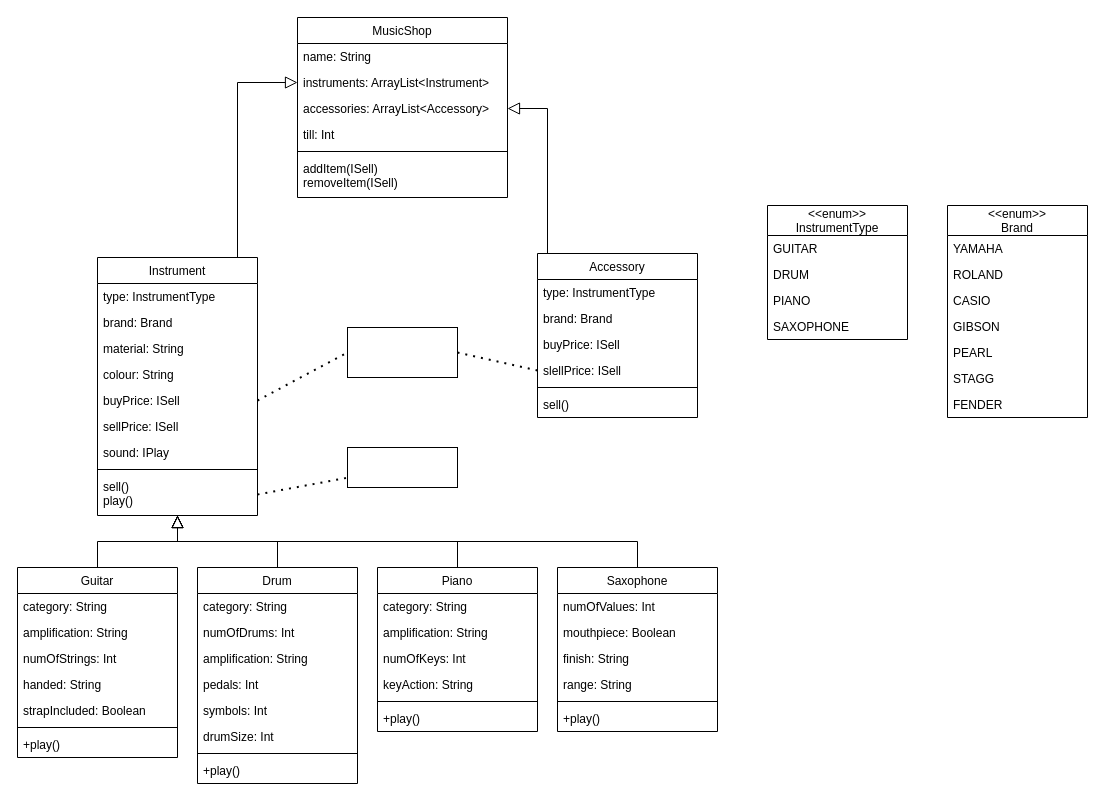
Image size: 1105x804. Some labels were removed from this diagram. The centre of each missing label's shape, as x and y in pixels:
"IPlay play()" goes at point 402,467.
"ISell sell() calculateMarkup()" goes at point 402,352.
